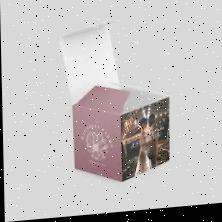cube: (71, 86, 170, 188)
